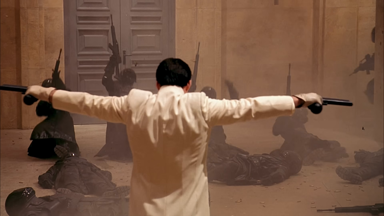firearm: (104, 13, 122, 81), (0, 81, 39, 109), (316, 200, 384, 215), (347, 51, 373, 79), (190, 39, 202, 91), (48, 44, 65, 78), (284, 60, 292, 93)
